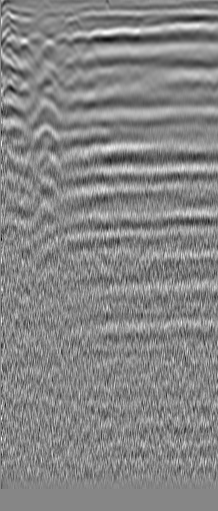오수: (39, 35, 59, 55)
우수: (170, 22, 190, 42)
